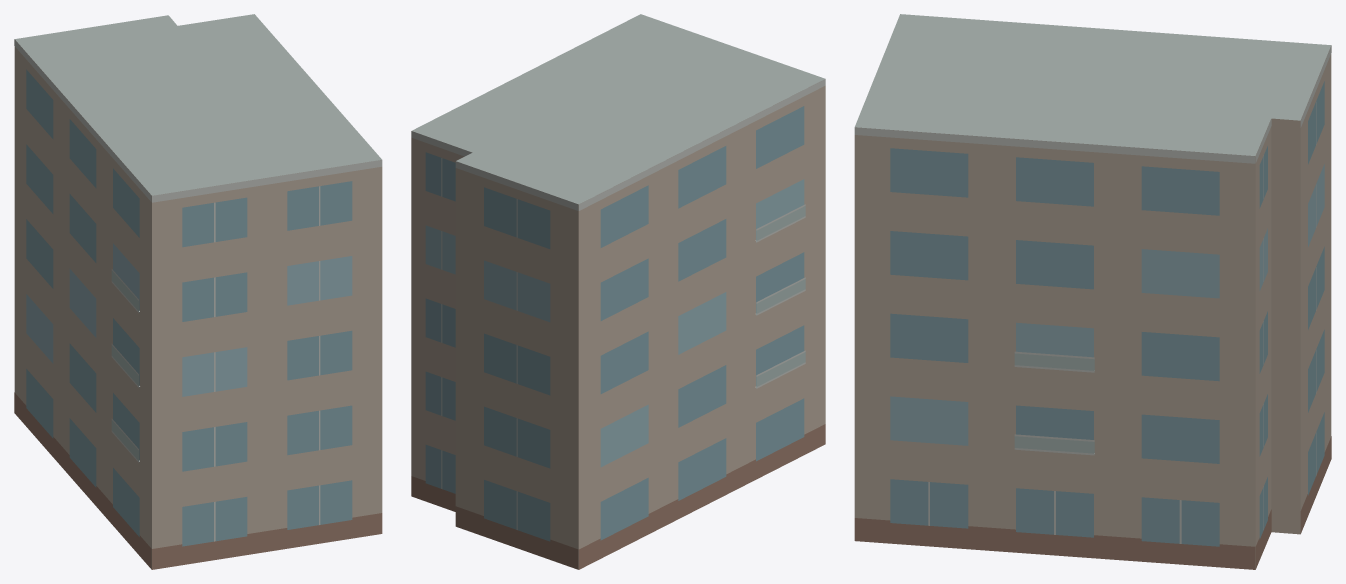
The model's file is survey-upis-32698405.glb.
The picture shows the model from 3 angles, left to right: view 1: azimuth 30°, elevation 25°; view 2: azimuth 150°, elevation 25°; view 3: azimuth 270°, elevation 25°; orthographic projection. The views are drawn at different scales.
Visible parts, largest first — view 1: survey-upis-32698405.tmp; view 2: survey-upis-32698405.tmp; view 3: survey-upis-32698405.tmp.
Boxes of the visible parts, box(x1,y1,x2,y2) form: survey-upis-32698405.tmp: box(14, 14, 382, 569); survey-upis-32698405.tmp: box(411, 14, 825, 569); survey-upis-32698405.tmp: box(854, 14, 1331, 569).
Bounding box in the file's own units: 9.73 × 13.2 × 13.8.
